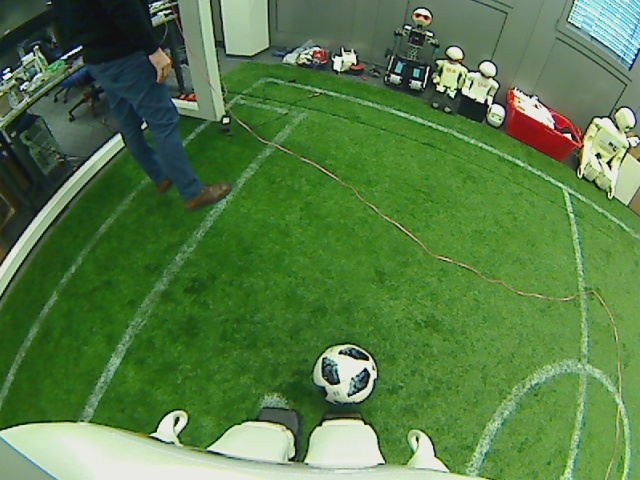ball: (310, 341, 378, 405)
